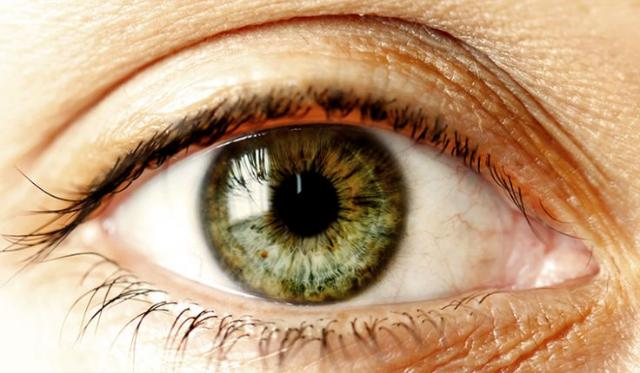eye: (201, 121, 401, 309)
